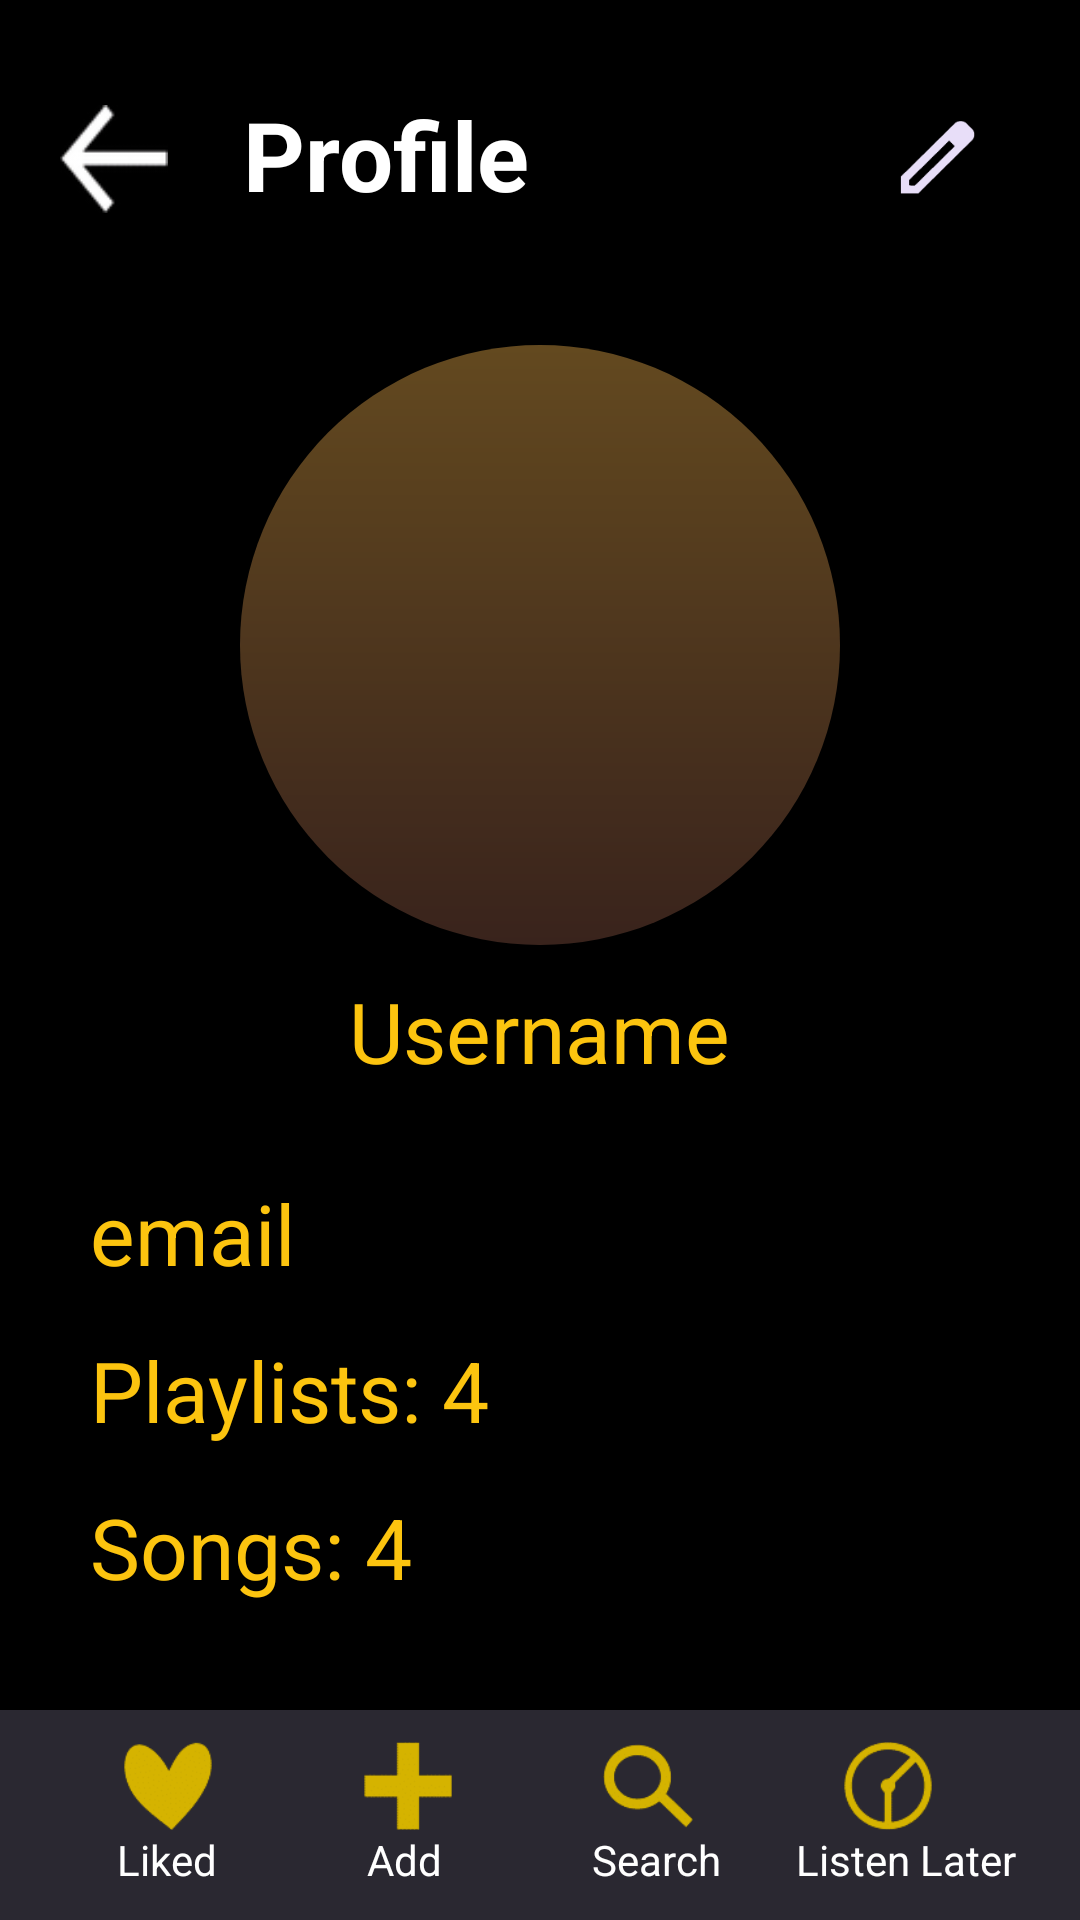

Named icons in this screenshot (1080 × 1920) and their bounding boxes, (x1, y1, x2, y2):
backarrow page: (60, 105, 168, 213)
pen: (900, 121, 975, 194)
